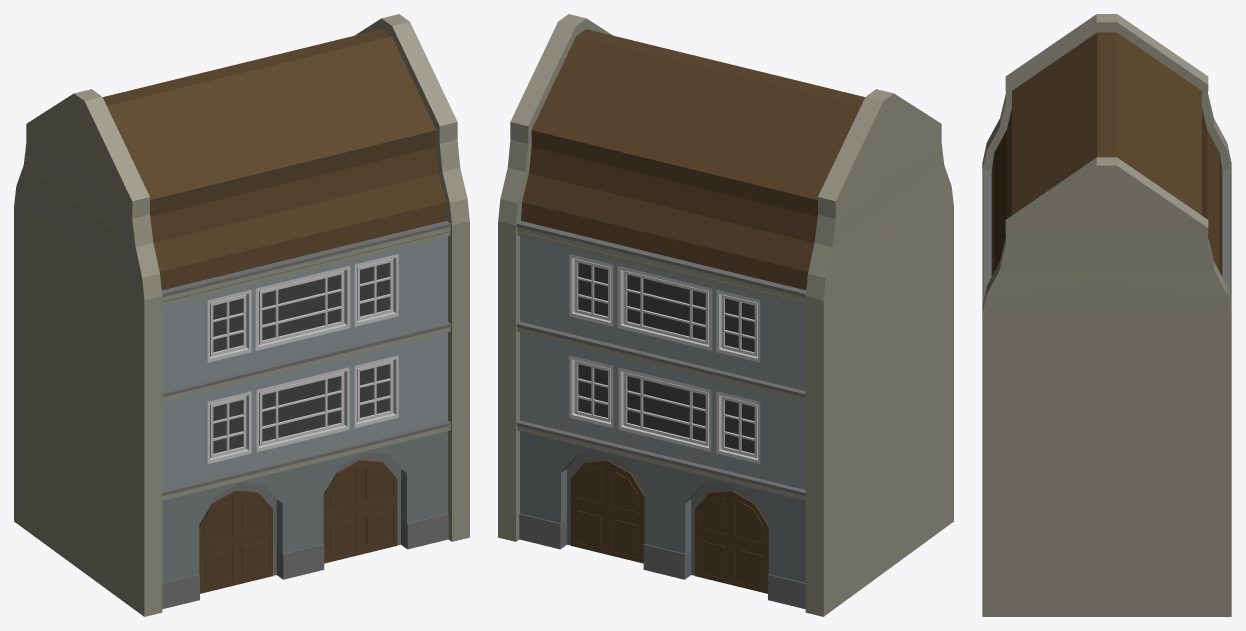
Rendered from Building2_Small.glb.
The picture shows the model from 3 angles, left to right: view 1: azimuth 30°, elevation 25°; view 2: azimuth 150°, elevation 25°; view 3: azimuth 270°, elevation 25°; orthographic projection. The views are drawn at different scales.
Parts seen in each view (by area): view 1: Building2_Small_Cube.015; view 2: Building2_Small_Cube.015; view 3: Building2_Small_Cube.015.
Boxes of the visible parts, left/top/right/bottom form: Building2_Small_Cube.015: left=14, top=14, right=469, bottom=616; Building2_Small_Cube.015: left=498, top=14, right=953, bottom=616; Building2_Small_Cube.015: left=982, top=14, right=1231, bottom=616.
Size of the model in its own units: 3.58 by 4.97 by 2.49.
